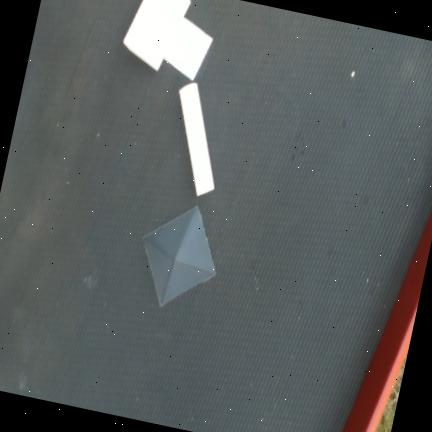Cilindro: (179, 82, 215, 197)
Piramide: (143, 205, 216, 307), (164, 17, 213, 82)
Prisma_hexagonal: (123, 0, 191, 72)
